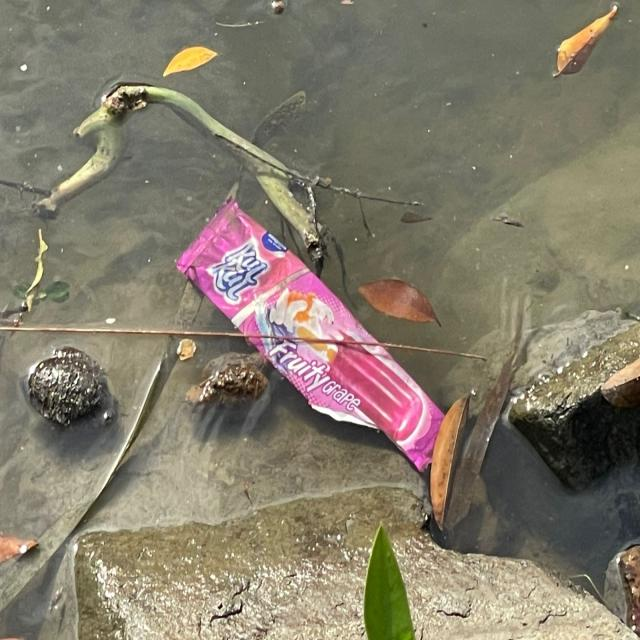Bungkus Makanan: (172, 190, 451, 491)
